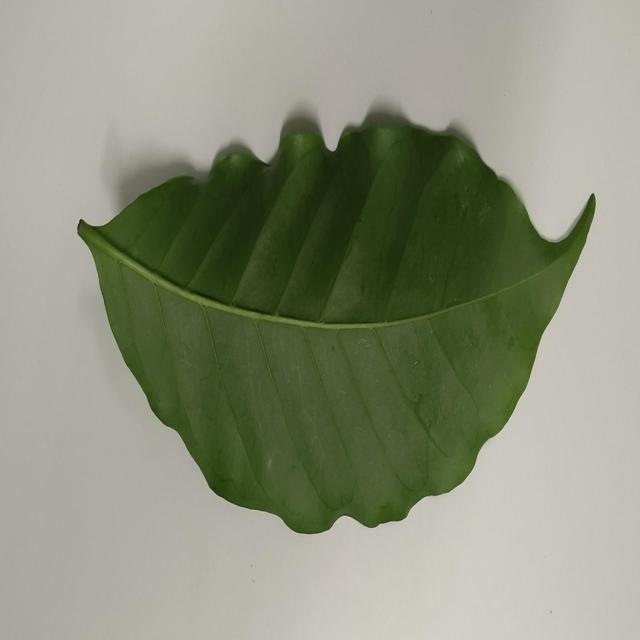Sanas: (76, 102, 597, 539)
